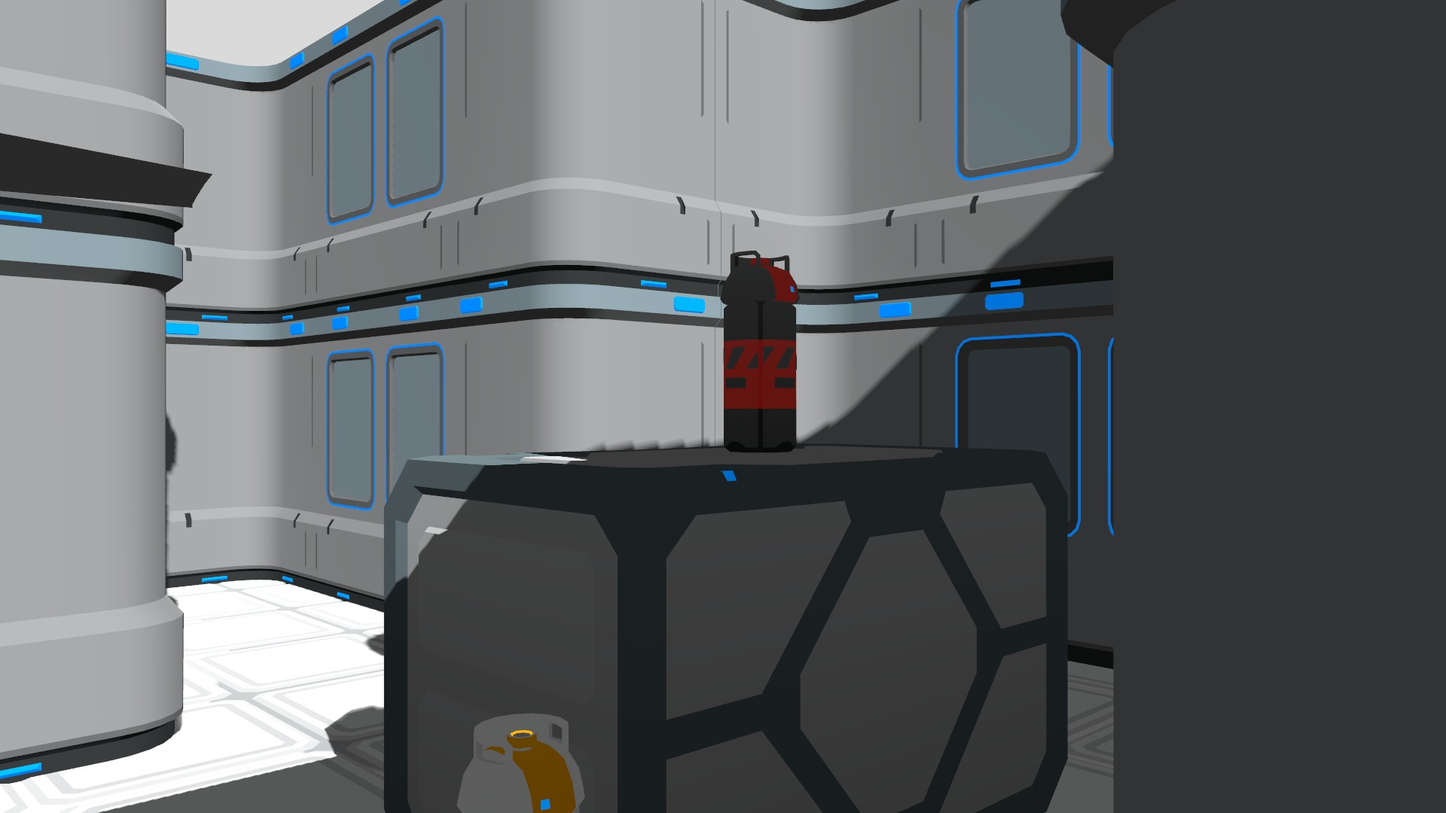red_barrel: (720, 246, 803, 457)
yellow_barrel: (452, 713, 596, 813)
